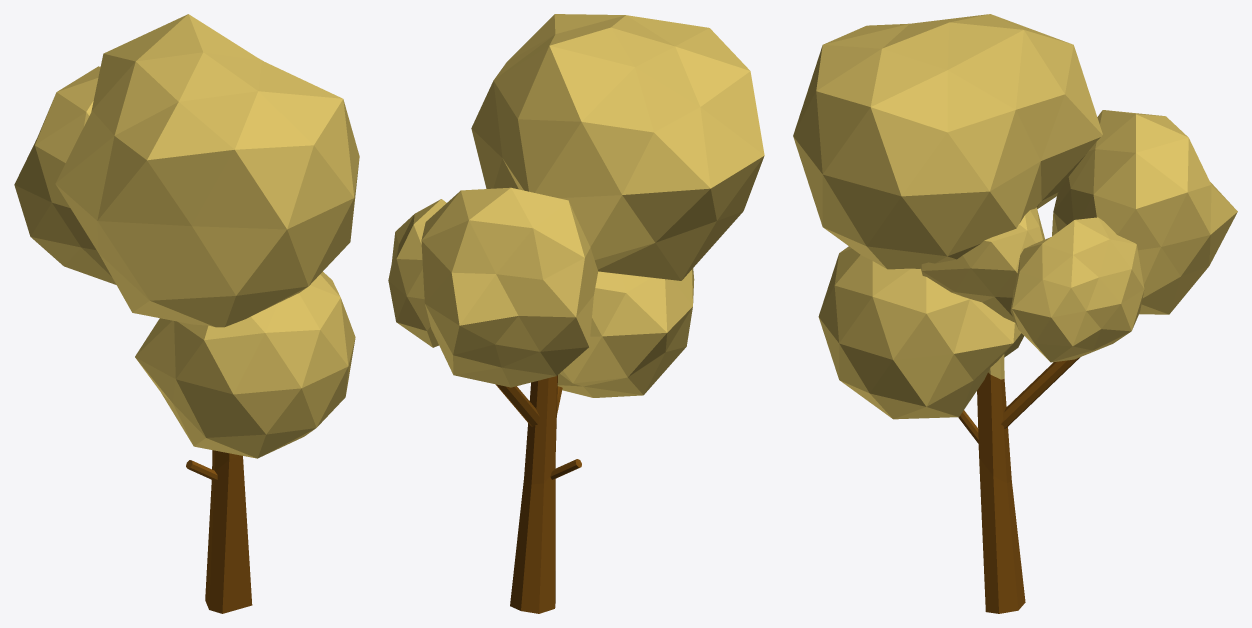
Rendered from tree.fbx.
The picture shows the model from 3 angles, left to right: view 1: azimuth 30°, elevation 25°; view 2: azimuth 150°, elevation 25°; view 3: azimuth 270°, elevation 25°; orthographic projection. The views are drawn at different scales.
Visible parts, largest first — view 1: Cylinder; view 2: Cylinder; view 3: Cylinder.
Part boxes in pixels (box(x1,y1,x2,y2)): Cylinder: box(14, 14, 359, 613); Cylinder: box(388, 14, 764, 613); Cylinder: box(793, 14, 1237, 613).
Bounding box in the file's own units: 825 × 1552 × 1112.
